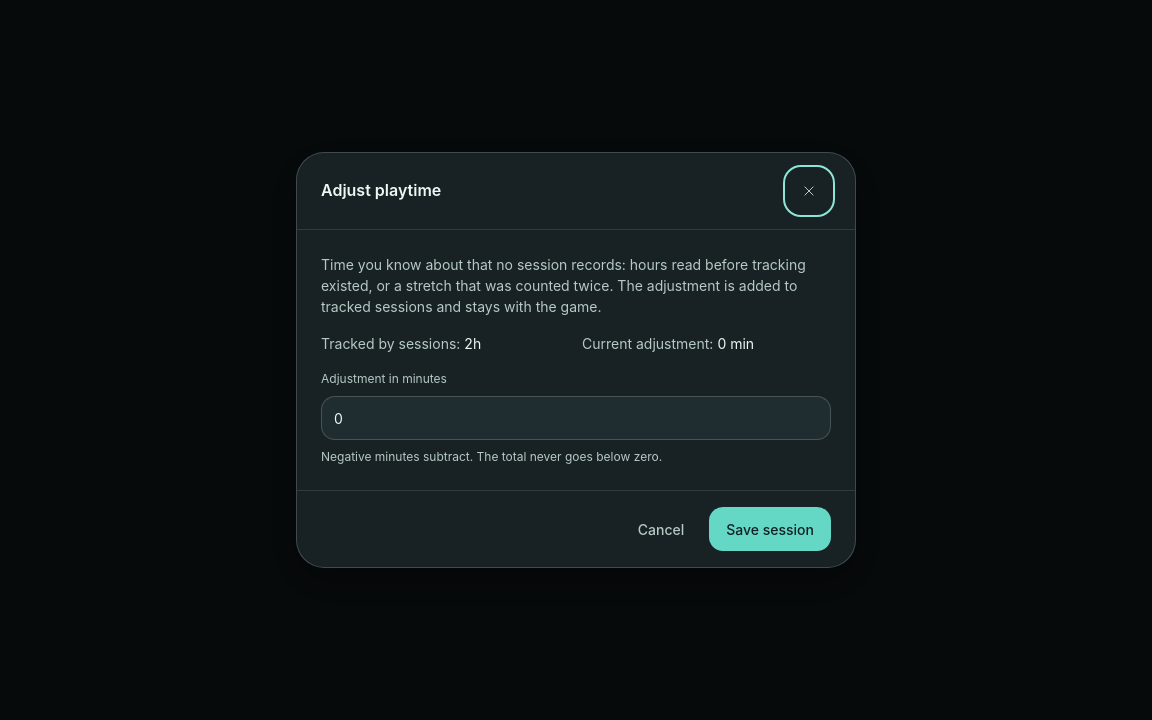
Test: AdjustPlaytimeSheet › refuses a fraction of a minute instead of silently rounding
This screenshot has width=1152, height=720.
Step 1. Replace the text in the number field labelled "Adjustment in minutes" with "1.5" → (576, 418), box [321,396,831,440]
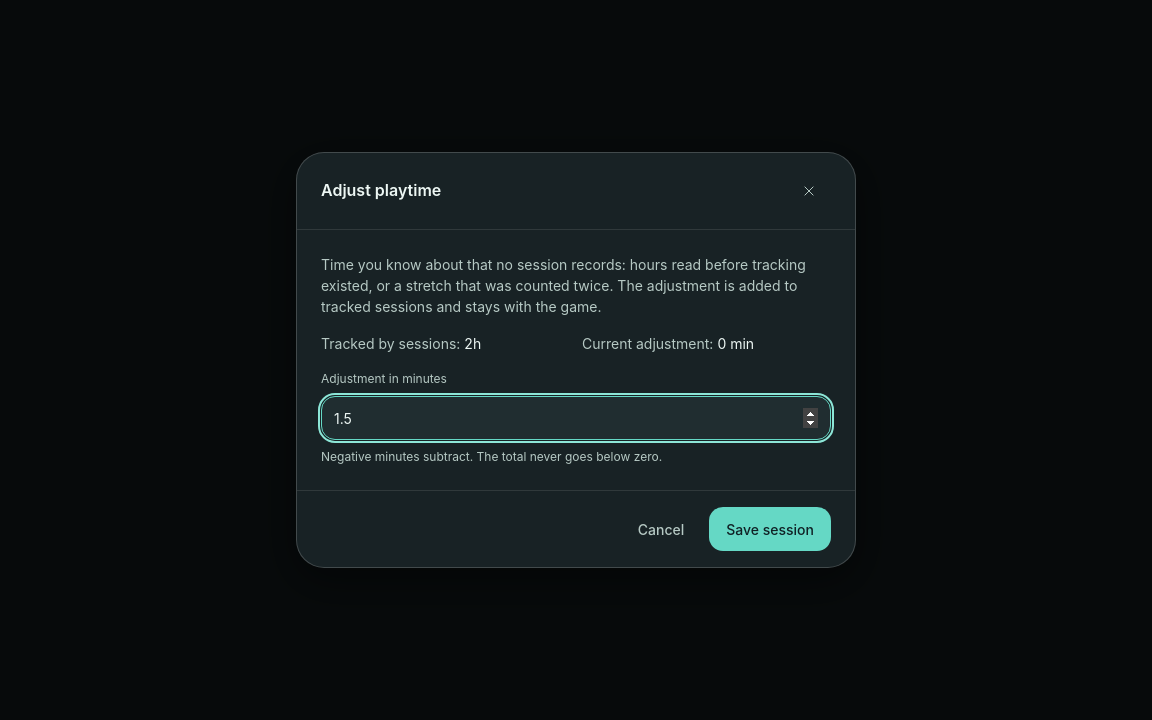
Step 2. Click the button "Save session" → (770, 529), box [709,507,831,551]
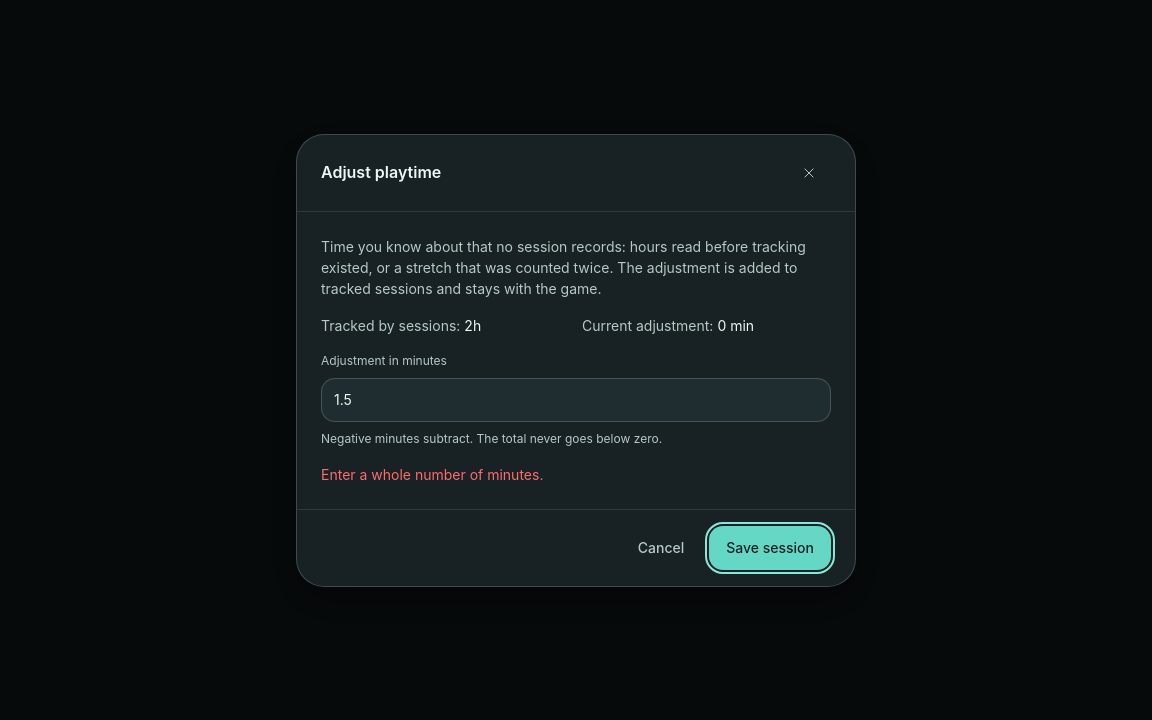
Expected: the text "Enter a whole number of minutes." is shown, [321,466,543,482]
